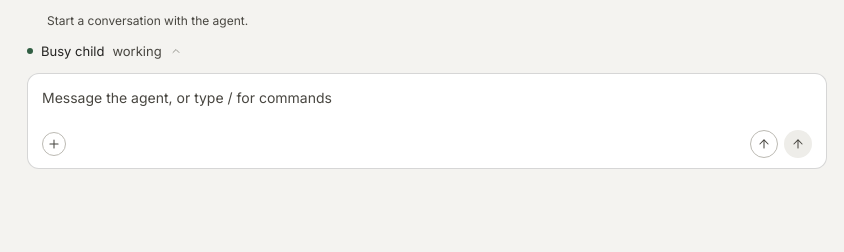
a child the parent created, with no task event › skips a child that went from idle to working while the ask was open
Click the button with test id "who-is-working" at [104, 51], box 19,37 -> 190,65
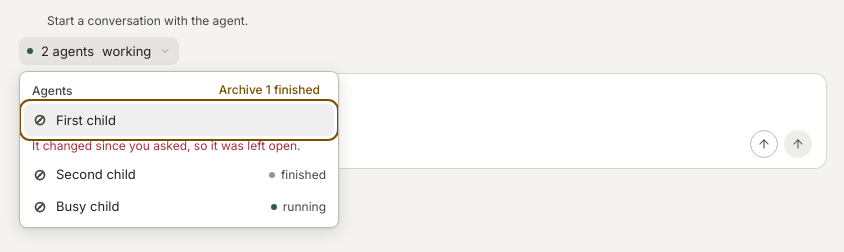
Now the text with class "workspace-subagent-row-failure" reads "It changed since you asked, so it was left open.", box 32,138 -> 301,153
